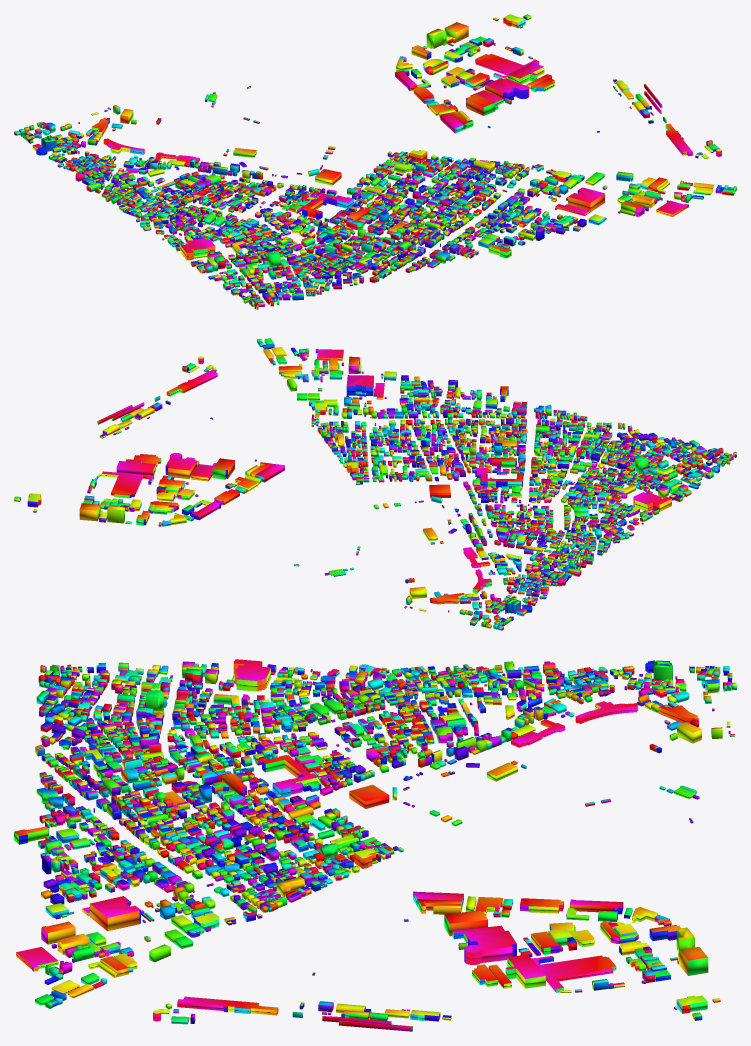
3 views of the same model, one above another, from view 1: azimuth 30°, elevation 25°; view 2: azimuth 150°, elevation 25°; view 3: azimuth 270°, elevation 25° (orthographic). The views are drawn at different scales.
Parts seen in each view (by area): view 1: BLD_2d533424-2e69-4e58-b052-31dd303f676a1; view 2: BLD_2d533424-2e69-4e58-b052-31dd303f676a1; view 3: BLD_2d533424-2e69-4e58-b052-31dd303f676a1.
Part boxes in pixels (left/top/right/bottom): BLD_2d533424-2e69-4e58-b052-31dd303f676a1: left=14, top=14, right=736, bottom=309; BLD_2d533424-2e69-4e58-b052-31dd303f676a1: left=14, top=338, right=736, bottom=630; BLD_2d533424-2e69-4e58-b052-31dd303f676a1: left=14, top=659, right=736, bottom=1031.
Bounding box in the file's own units: 1160 × 31.17 × 967.
